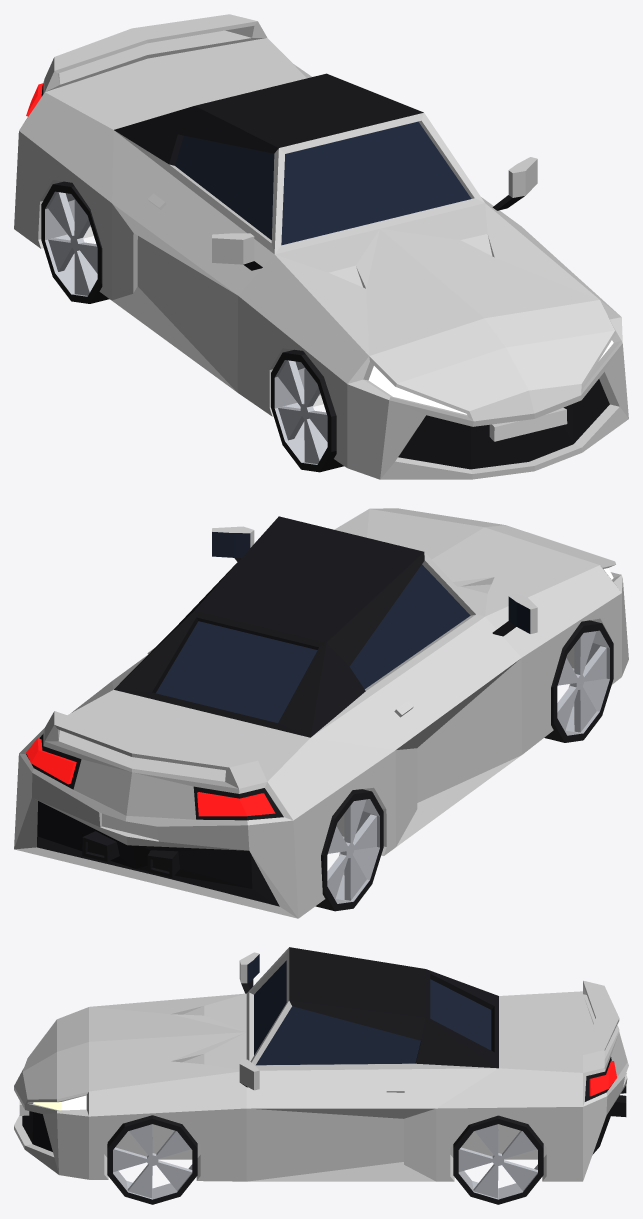
File: sports.glb
3 renders of one model, top to bottom at view 1: azimuth 30°, elevation 25°; view 2: azimuth 150°, elevation 25°; view 3: azimuth 270°, elevation 25°, orthographic. The views are drawn at different scales.
Parts seen in each view (by area): view 1: body, wheel-front-right, wheel-back-right; view 2: body, wheel-front-right, wheel-back-right; view 3: body, wheel-front-left, wheel-back-left.
Part boxes in pixels (<box>): body: <box>14,14,628,479</box>; wheel-front-right: <box>271,349,343,472</box>; wheel-back-right: <box>41,181,109,303</box>; body: <box>14,508,628,918</box>; wheel-front-right: <box>544,620,613,742</box>; wheel-back-right: <box>315,789,383,911</box>; body: <box>14,947,628,1181</box>; wheel-front-left: <box>107,1115,197,1204</box>; wheel-back-left: <box>453,1115,543,1204</box>.
Size of the model in its own units: 1.9 by 1.33 by 4.12.
